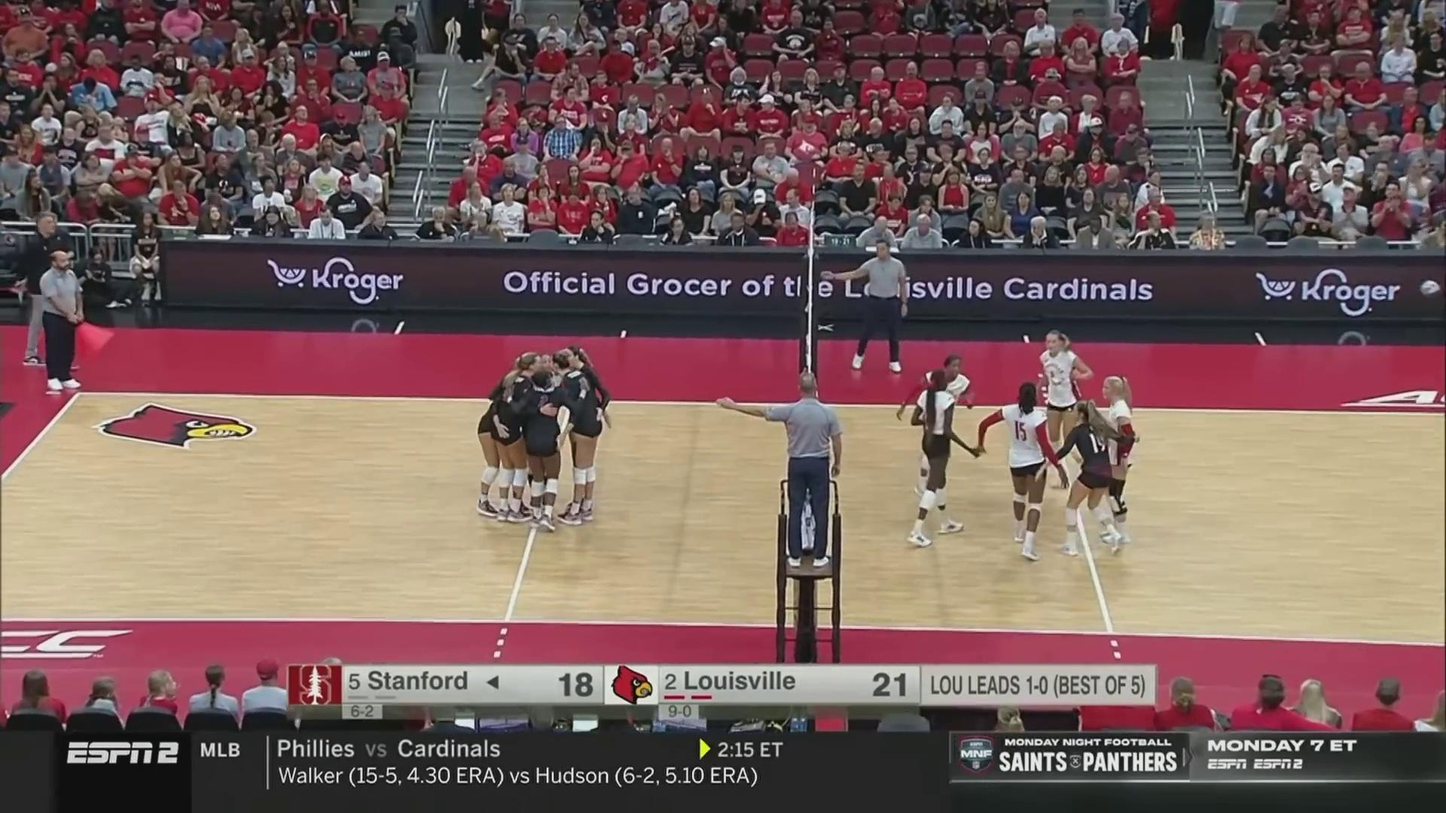player: (978, 382, 1060, 558), (1055, 403, 1133, 556), (897, 355, 978, 498), (907, 371, 974, 543), (515, 370, 578, 534), (1037, 327, 1094, 483), (476, 344, 525, 518), (552, 355, 601, 525), (1094, 371, 1141, 543), (490, 350, 535, 526), (558, 343, 609, 498), (529, 351, 563, 506)
refree: (719, 372, 844, 565), (829, 241, 908, 373), (35, 251, 91, 389)
